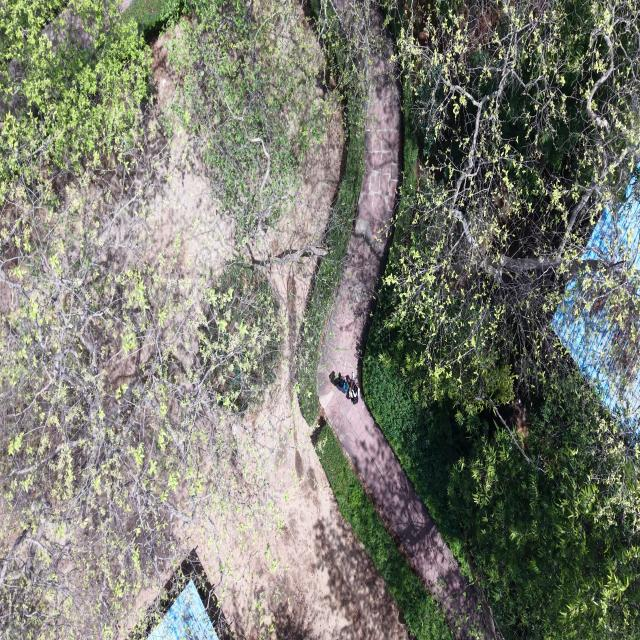DRY_AREA: (318, 59, 484, 638), (319, 59, 476, 637), (319, 60, 475, 637), (169, 260, 406, 639), (172, 258, 406, 639), (320, 61, 470, 621), (181, 412, 406, 639), (43, 7, 93, 49), (119, 0, 132, 12)
ROOFTOP_BUILDING: (552, 178, 639, 425), (128, 550, 231, 639), (148, 580, 218, 639)
VEGETATION_TREE: (0, 0, 325, 638), (0, 0, 323, 638), (364, 0, 639, 639), (364, 2, 639, 638), (0, 3, 179, 637), (0, 2, 172, 637), (385, 0, 639, 409), (364, 319, 639, 638), (449, 373, 639, 638), (170, 0, 328, 238), (297, 0, 384, 423), (296, 0, 380, 423), (0, 0, 150, 208), (363, 288, 470, 577), (315, 425, 453, 639), (363, 301, 470, 577), (296, 104, 363, 423), (198, 262, 281, 411), (126, 0, 188, 41)
